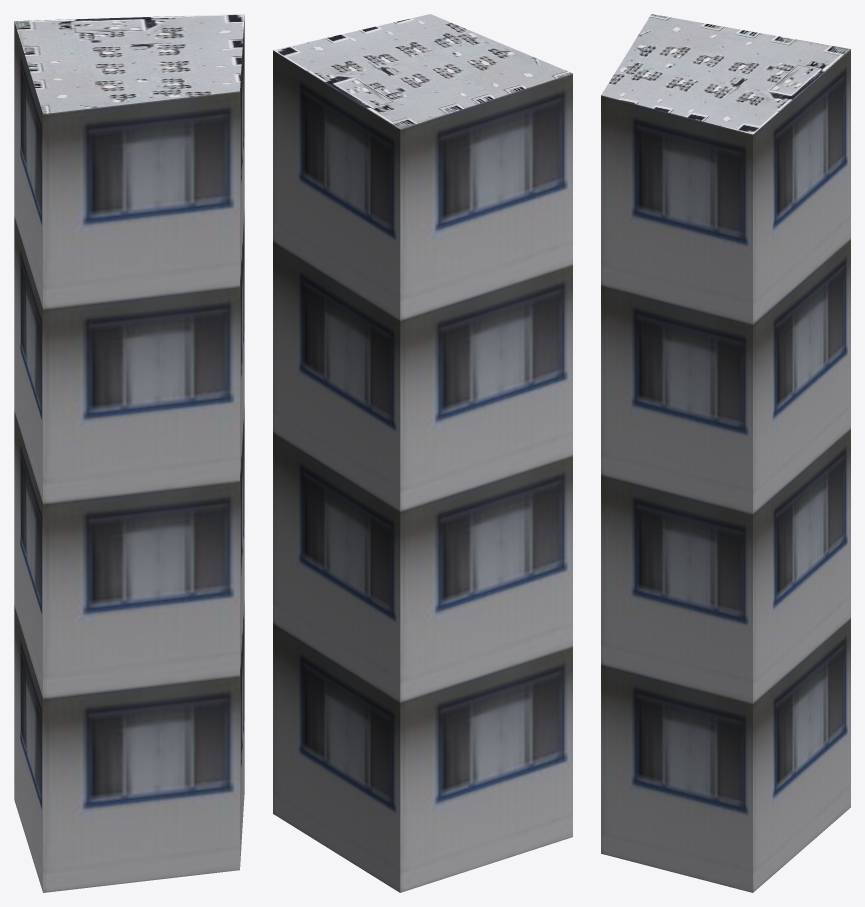
File: ResTex__5312.fbx
3 renders of one model, left to right at view 1: azimuth 30°, elevation 25°; view 2: azimuth 150°, elevation 25°; view 3: azimuth 270°, elevation 25°, orthographic. The views are drawn at different scales.
Visible parts, largest first — view 1: CityEngineMaterial_9_m, CityEngineMaterial_4_m; view 2: CityEngineMaterial_9_m, CityEngineMaterial_4_m; view 3: CityEngineMaterial_9_m, CityEngineMaterial_4_m.
Boxes of the visible parts, bbox=[...] form: CityEngineMaterial_9_m: bbox=[14, 16, 244, 892]; CityEngineMaterial_4_m: bbox=[14, 14, 244, 113]; CityEngineMaterial_9_m: bbox=[273, 50, 572, 892]; CityEngineMaterial_4_m: bbox=[273, 14, 572, 129]; CityEngineMaterial_9_m: bbox=[601, 49, 850, 892]; CityEngineMaterial_4_m: bbox=[601, 14, 850, 134].
Bounding box in the file's own units: 4.09 × 12 × 3.58.
Materials: 2 (2 with a texture image).
